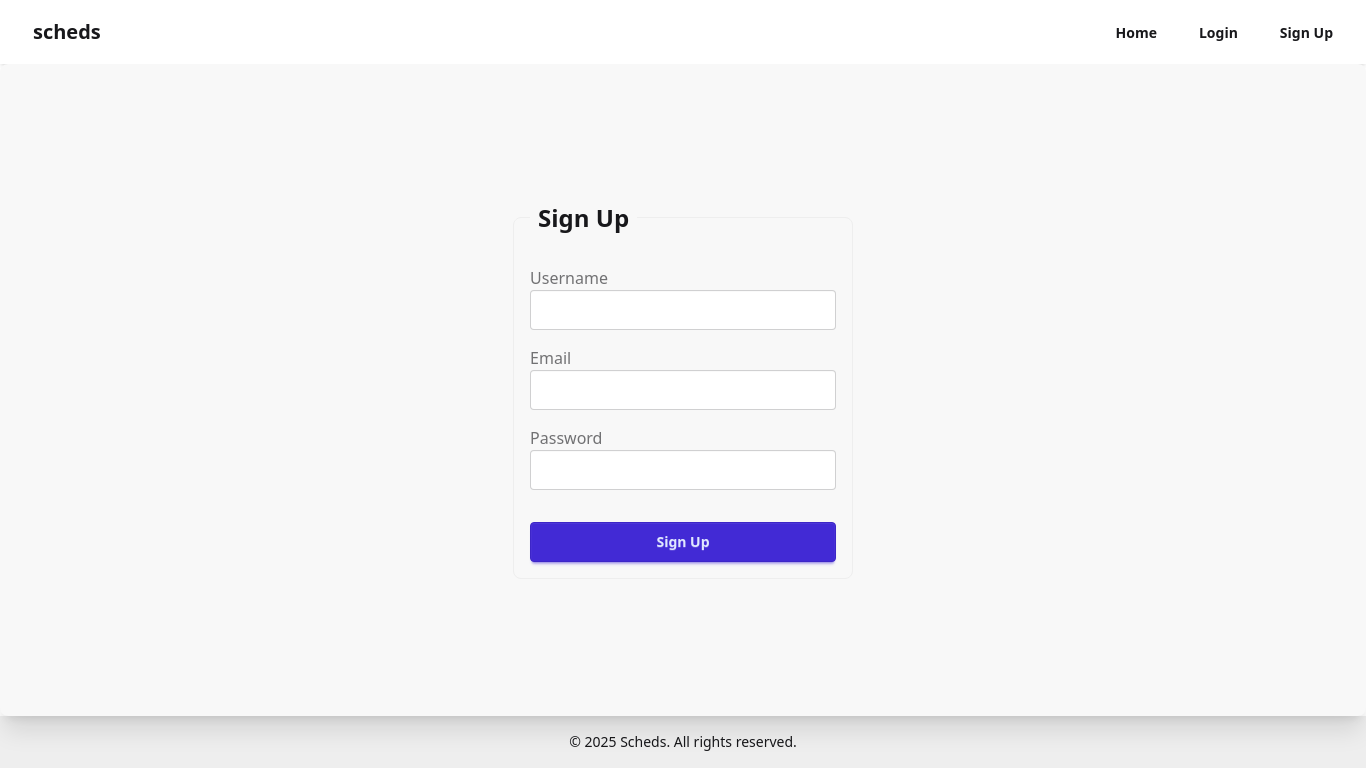
Test case: Signup Page › displays error message when API.signup returns error
Simulate user input
Type "testuser" into the field labelled "Username" at (683,310), box [530,290,836,330]
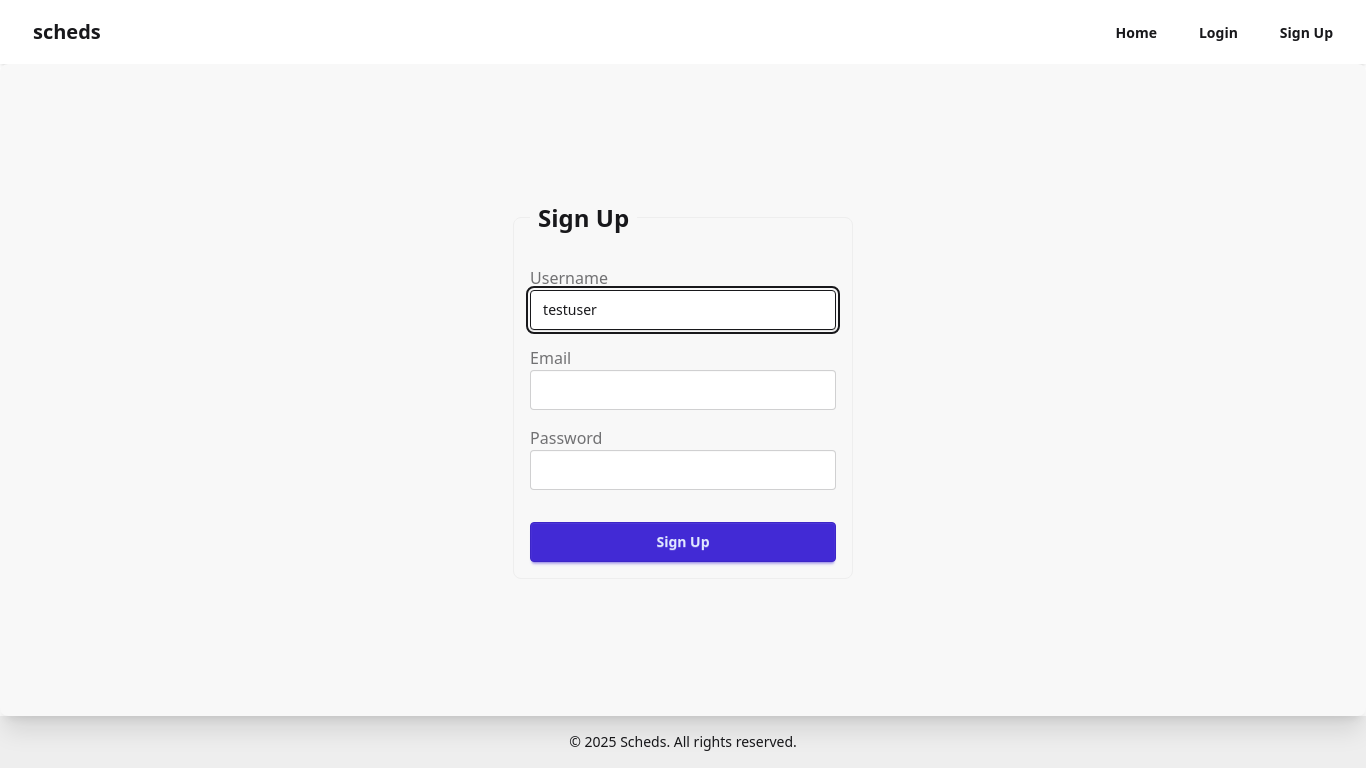
Type "test@example.com" into the field labelled "Email" at (683,390), box [530,370,836,410]
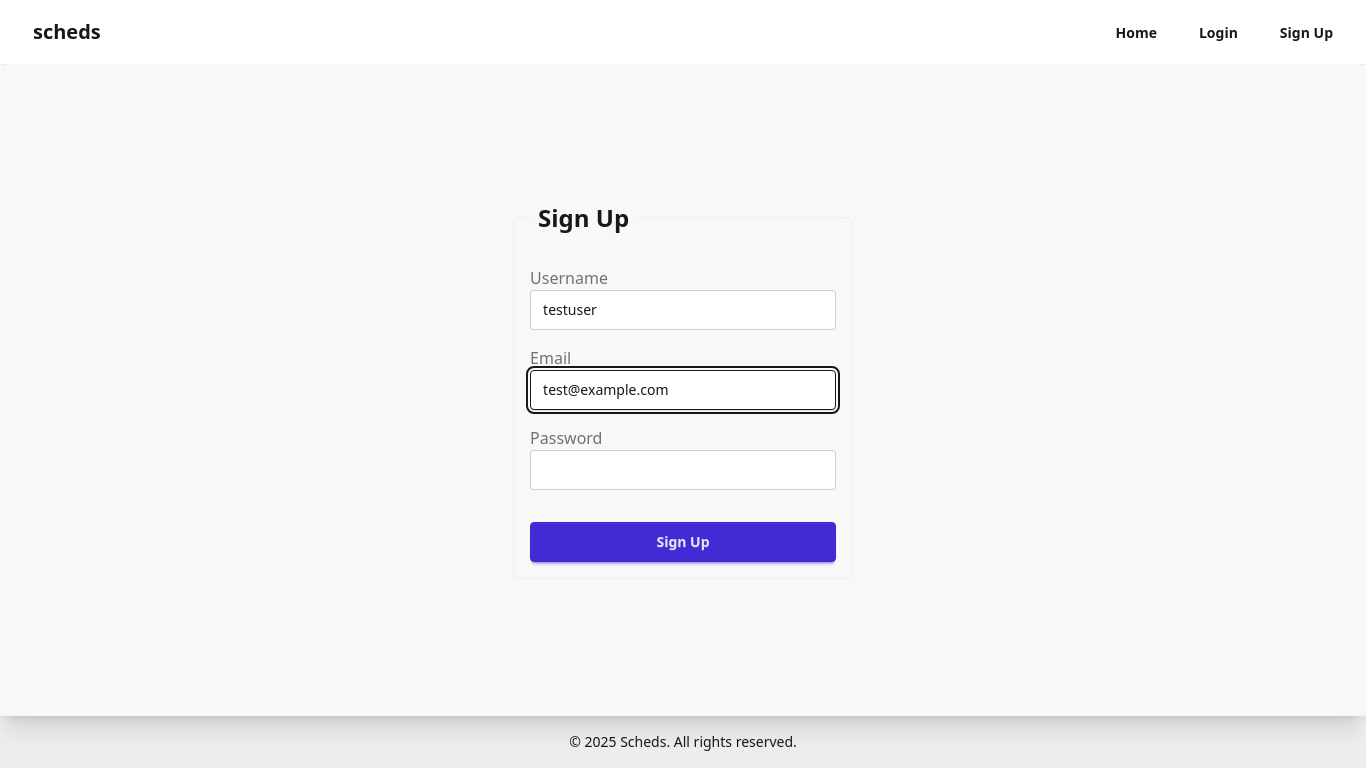
Type "securepass" into the password field labelled "Password" at (683,470), box [530,450,836,490]
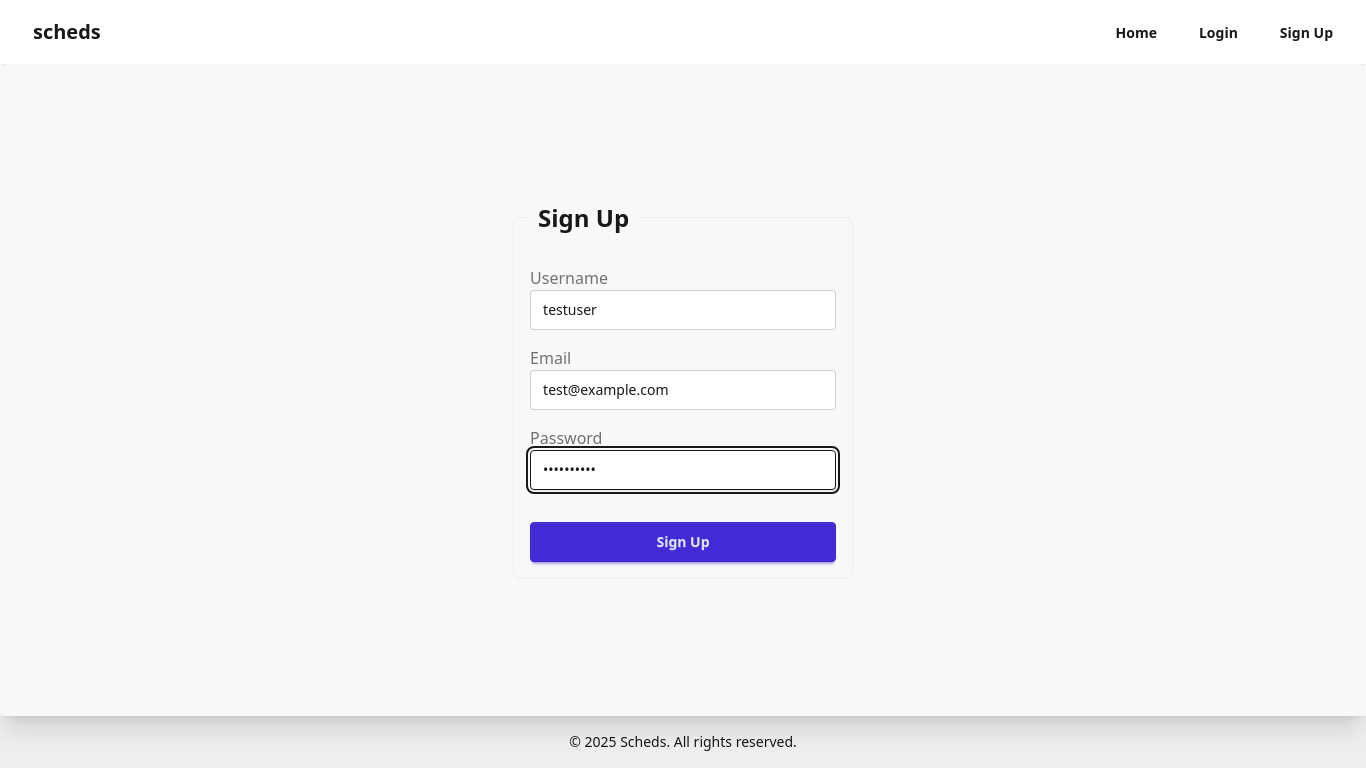
Click the button "Sign Up" at (683,542), box [530,522,836,562]
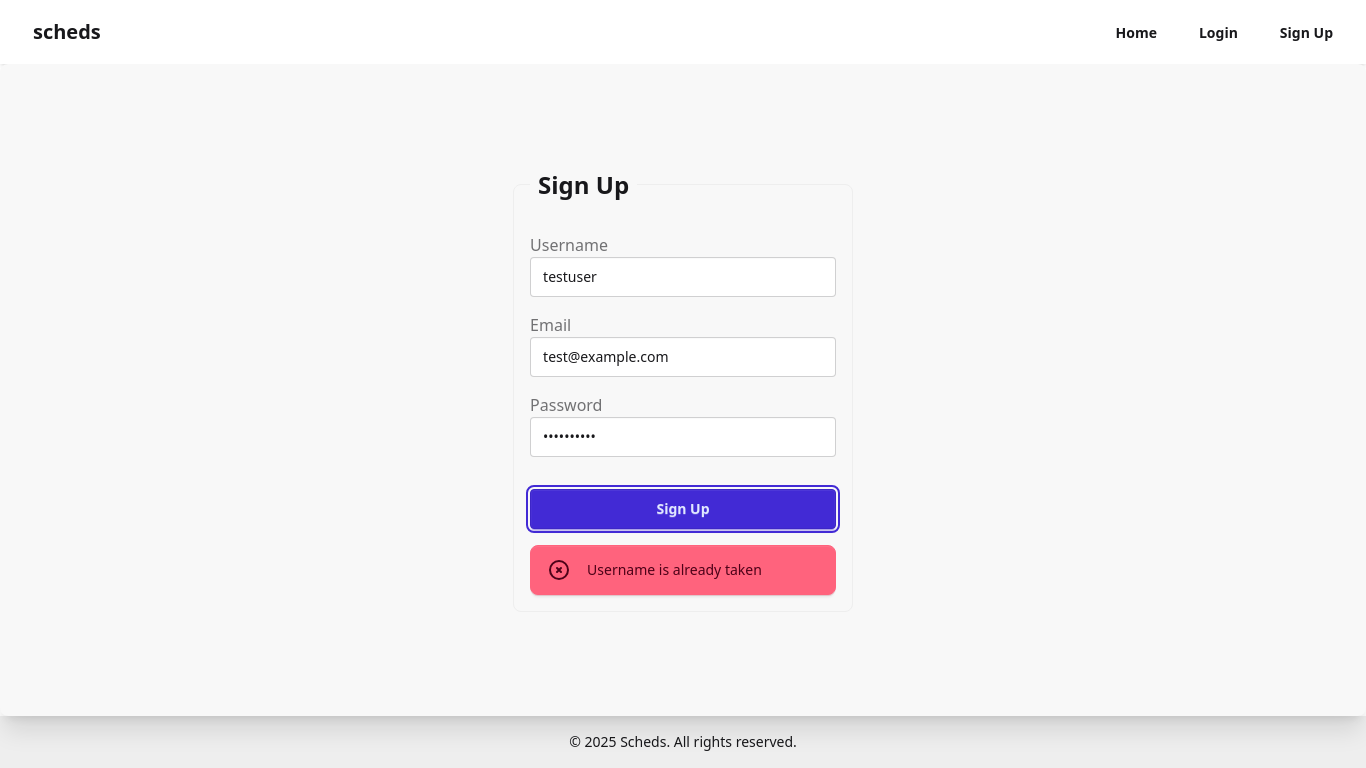
Result: the message reads "Username is already taken" at [587,560,762,578]
